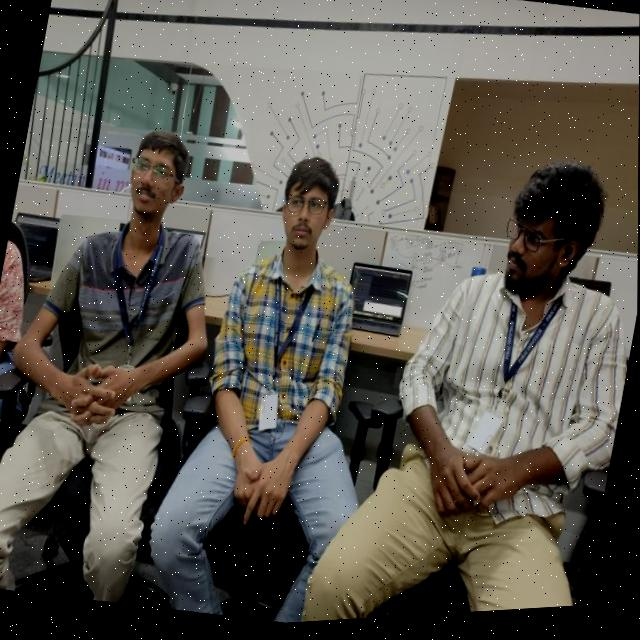id_card: (464, 287, 568, 471), (85, 216, 176, 385), (245, 261, 323, 447)
